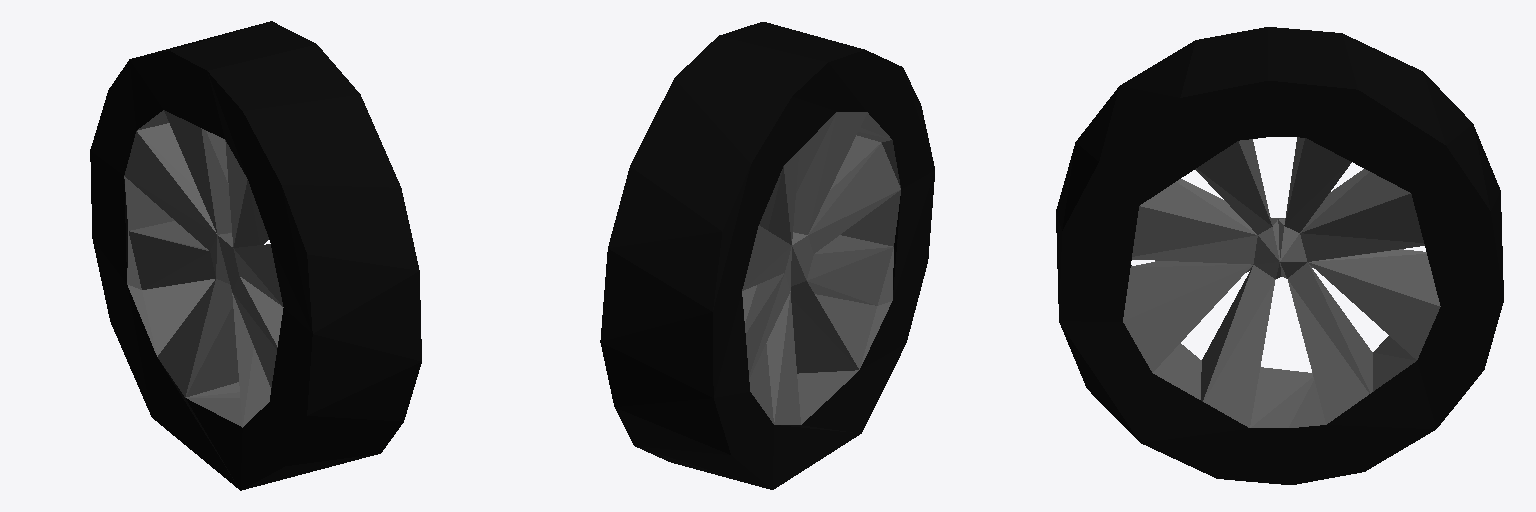
The model's file is hot_rod2_front_wheel.obj.
3 renders of one model, left to right at view 1: azimuth 30°, elevation 25°; view 2: azimuth 150°, elevation 25°; view 3: azimuth 270°, elevation 25°, orthographic.
Visible parts, largest first — view 1: Cylinder.002; view 2: Cylinder.002; view 3: Cylinder.002.
Part boxes in pixels (left/top/right/bottom): Cylinder.002: left=90, top=21, right=421, bottom=490; Cylinder.002: left=600, top=22, right=934, bottom=489; Cylinder.002: left=1056, top=27, right=1503, bottom=484.
Bounding box in the file's own units: 0.4498 × 1.57 × 1.57.